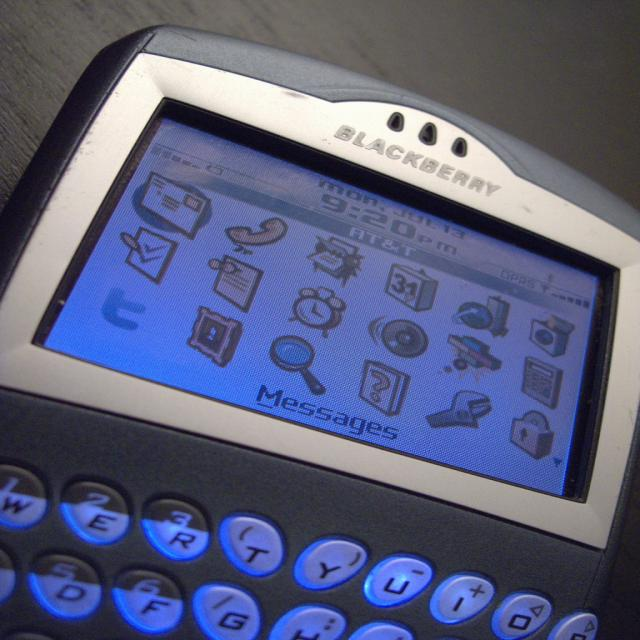Calculator: (0, 21, 639, 639)
